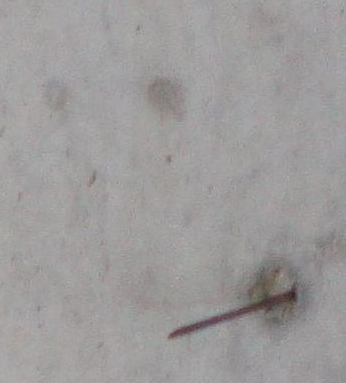Exposed reinforcement: (166, 291, 296, 340)
Spalling: (248, 265, 300, 319)
